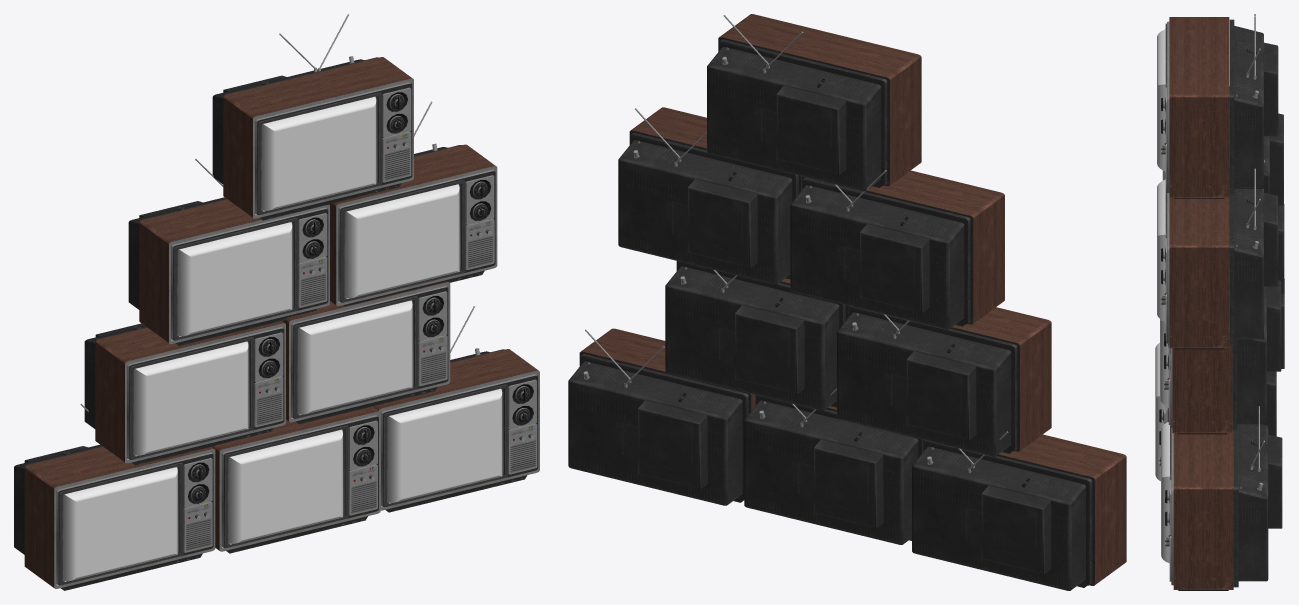
File: old_tv.glb
The picture shows the model from 3 angles, left to right: view 1: azimuth 30°, elevation 25°; view 2: azimuth 150°, elevation 25°; view 3: azimuth 270°, elevation 25°; orthographic projection. The views are drawn at different scales.
Parts seen in each view (by area): view 1: TV_TV_0.007, TV_TV_0.005, TV_TV_0.002, TV_TV_0.003, Screen8, Screen6, Screen2, Screen3, Screen1, Screen5, Screen4, Screen7 (+4 smaller); view 2: TV_TV_0.007, TV_TV_0.005, TV_TV_0.002, TV_TV_0.003, TV_TV_0.004, TV_TV_0.006, TV_TV_0.001, TV; view 3: TV_TV_0.007, TV_TV_0.004, TV_TV_0.006, TV_TV_0.001, TV_TV_0.005, Screen3, Screen8, Screen1, TV, Screen7, TV_TV_0.003, Screen5 (+1 smaller).
Boxes of the visible parts, box(x1,y1,x2,y2) form: TV_TV_0.007: box(212, 14, 413, 220); TV_TV_0.005: box(128, 159, 329, 345); TV_TV_0.002: box(14, 403, 215, 590); TV_TV_0.003: box(84, 321, 285, 465); Screen8: box(387, 388, 502, 503); Screen6: box(63, 467, 177, 581); Screen2: box(178, 222, 292, 336); Screen3: box(345, 184, 459, 298); Screen1: box(262, 96, 376, 211); Screen5: box(298, 300, 412, 414); Screen4: box(134, 341, 248, 456); Screen7: box(228, 429, 342, 544); TV_TV_0.007: box(707, 14, 921, 191); TV_TV_0.005: box(790, 170, 1004, 329); TV_TV_0.002: box(912, 431, 1126, 590); TV_TV_0.003: box(837, 305, 1051, 456); TV_TV_0.004: box(568, 328, 755, 505); TV_TV_0.006: box(618, 107, 801, 284); TV_TV_0.001: box(665, 261, 848, 410); TV: box(744, 388, 923, 544); TV_TV_0.007: box(1161, 14, 1278, 198); TV_TV_0.004: box(1165, 406, 1282, 590); TV_TV_0.006: box(1161, 168, 1278, 349); TV_TV_0.001: box(1164, 267, 1281, 434); TV_TV_0.005: box(1229, 86, 1283, 266); Screen3: box(1157, 179, 1165, 322); Screen8: box(1161, 422, 1169, 563); Screen1: box(1157, 28, 1165, 171); TV: box(1159, 355, 1276, 465); Screen7: box(1155, 342, 1163, 481); TV_TV_0.003: box(1232, 204, 1284, 354); Screen5: box(1160, 319, 1168, 407).
Size of the model in its own units: 1274 by 1180 by 291.
Materials: 8 (8 with a texture image).
